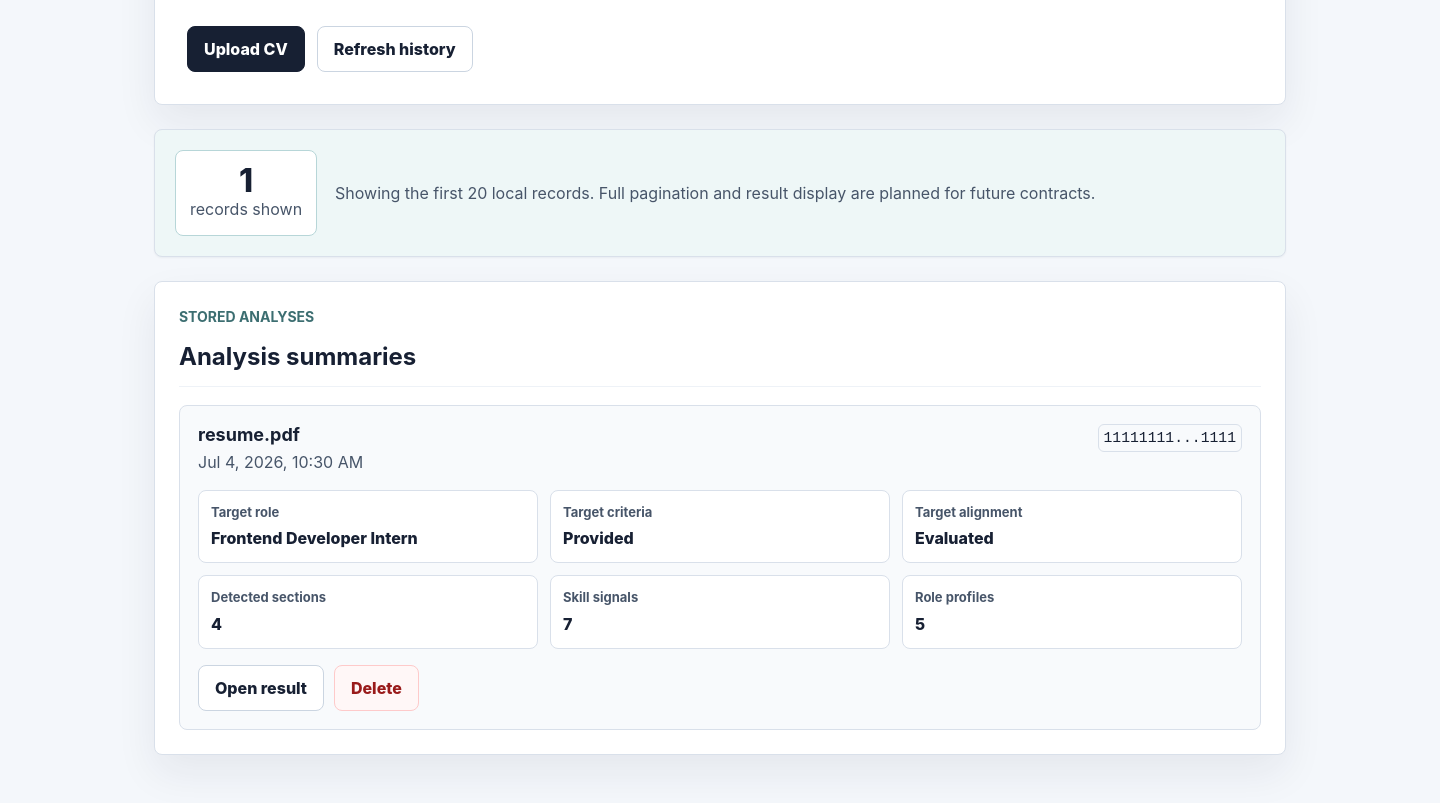
Scenario: App › confirms delete and removes the saved analysis after success
(page scrolled)
Expected: the heading "resume.pdf" is shown, [198,424,300,445]
Click the button "Delete".
click(376, 688)  # box [334,665,419,711]
(page scrolled)
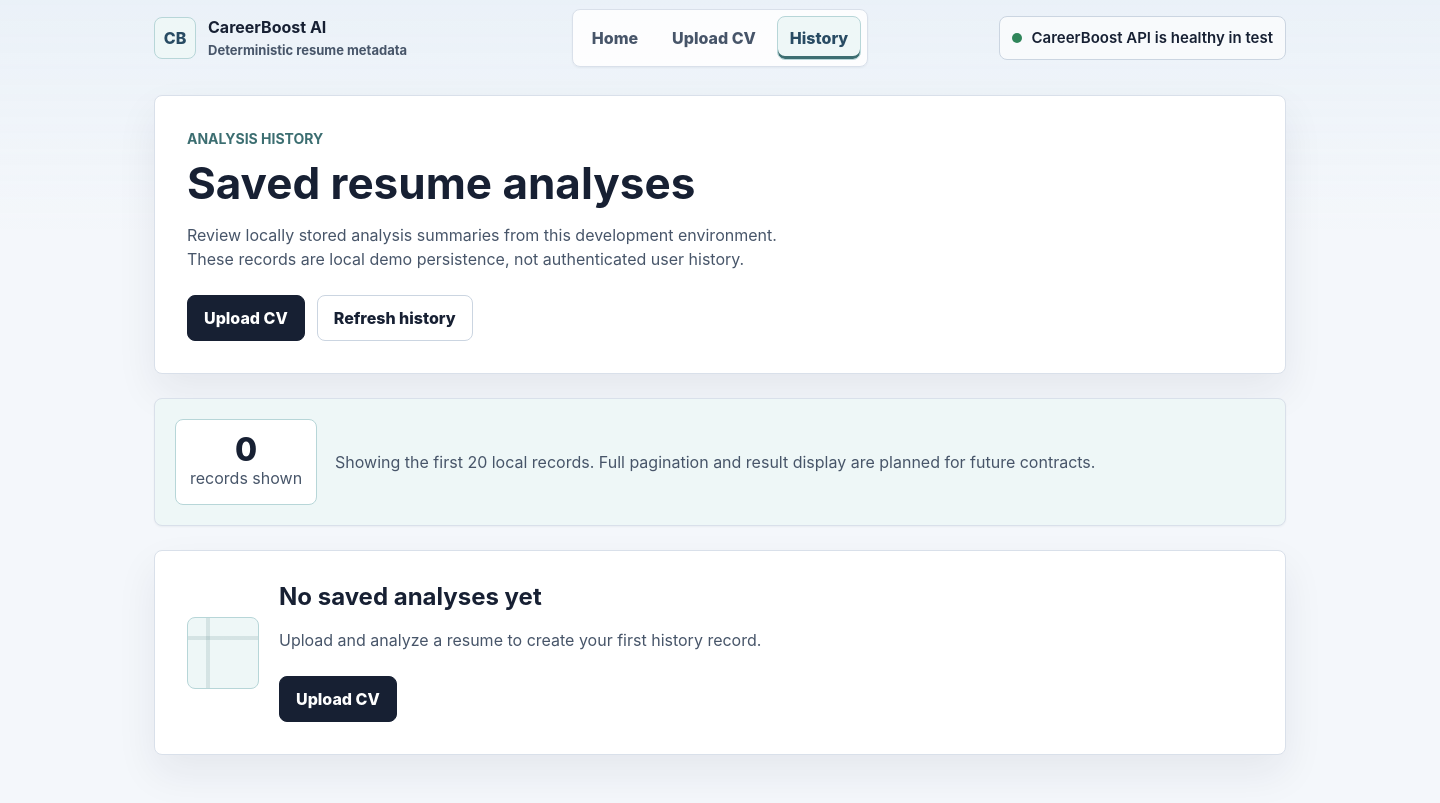
Expected: the heading "resume.pdf" is gone
Expected: the heading "No saved analyses yet" is shown, [279,582,542,611]
